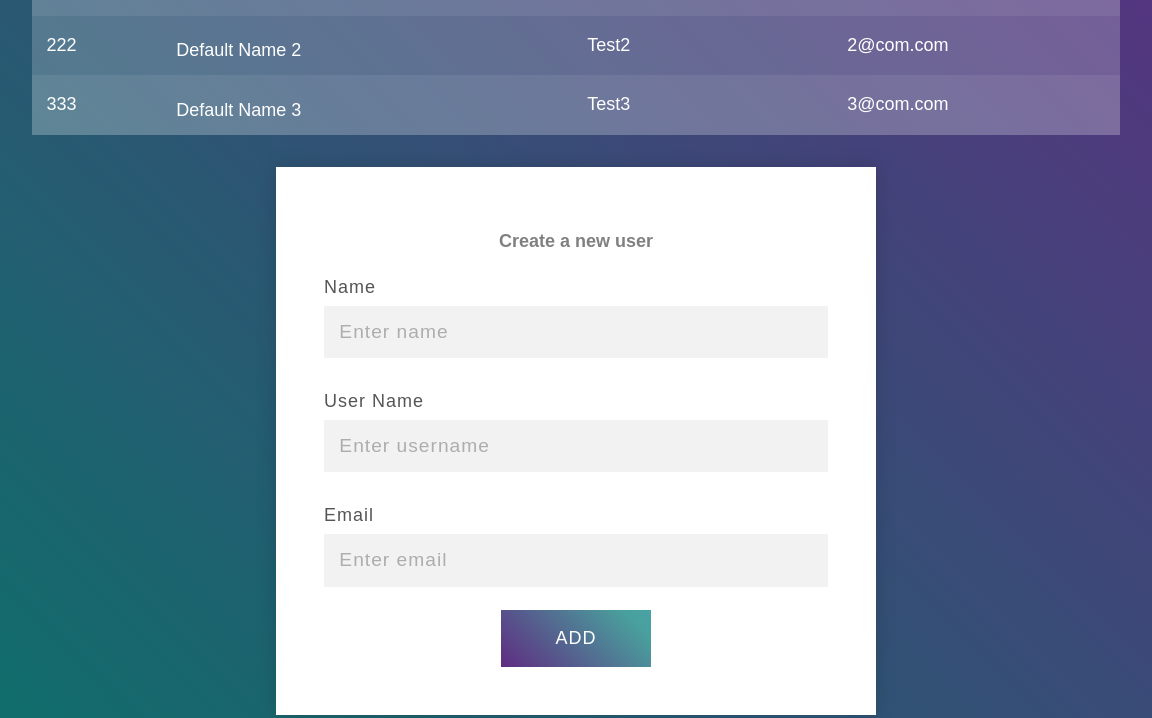
it: Form validation test › Test for all empty inputs
(page scrolled)
What coordinates should you click on to do the following:
click the button "Add"
I would click on:
 (576, 639)
Its box is [501,610,651,667].
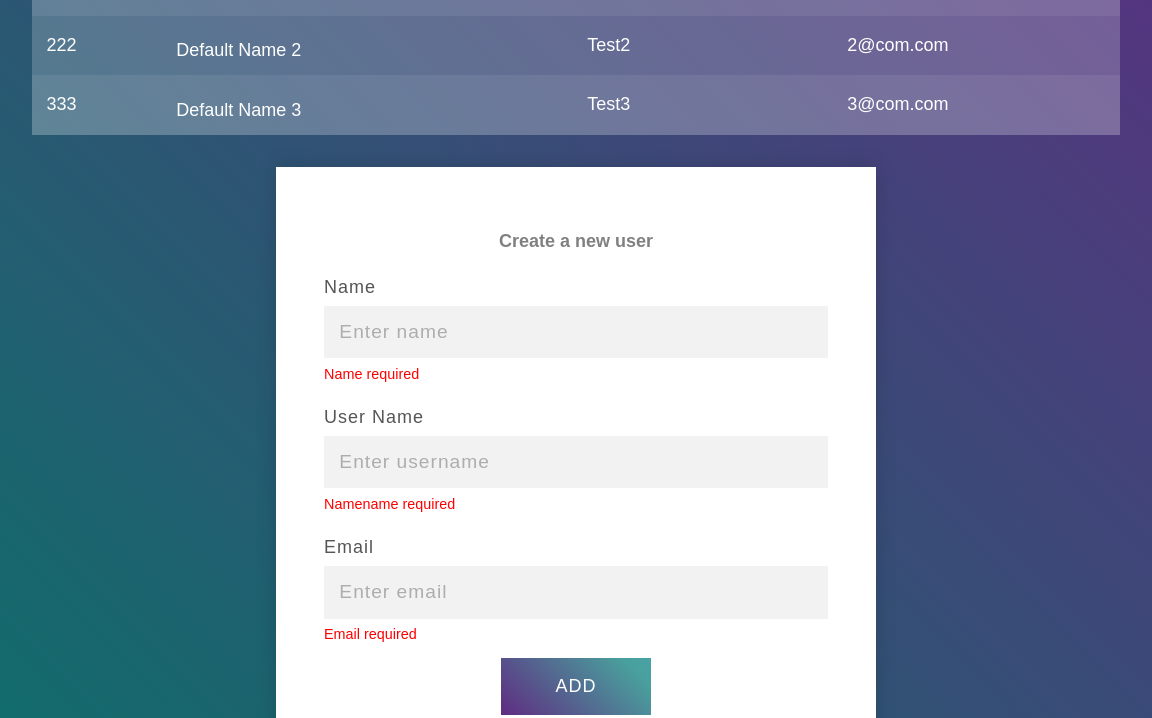
expect the text "Name required" is shown: met, box [324,366,419,382]
expect the text "Namename required" is shown: met, box [324,496,455,512]
expect the text "Email required" is shown: met, box [324,626,417,642]
